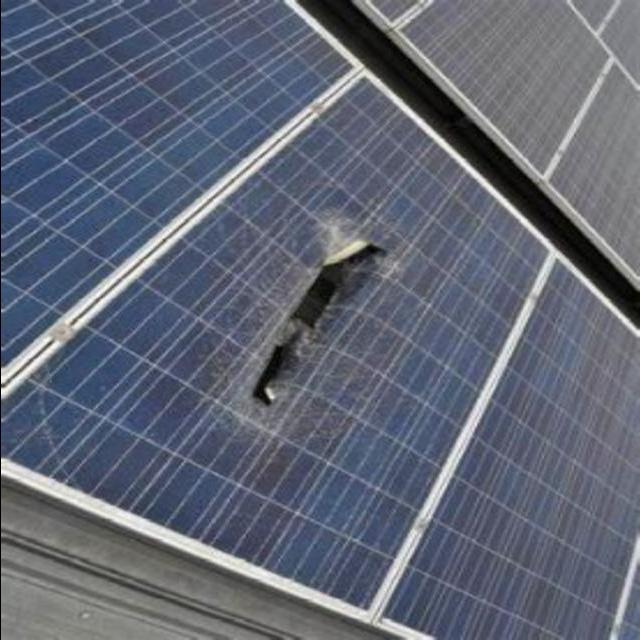cracked: (32, 56, 522, 610)
